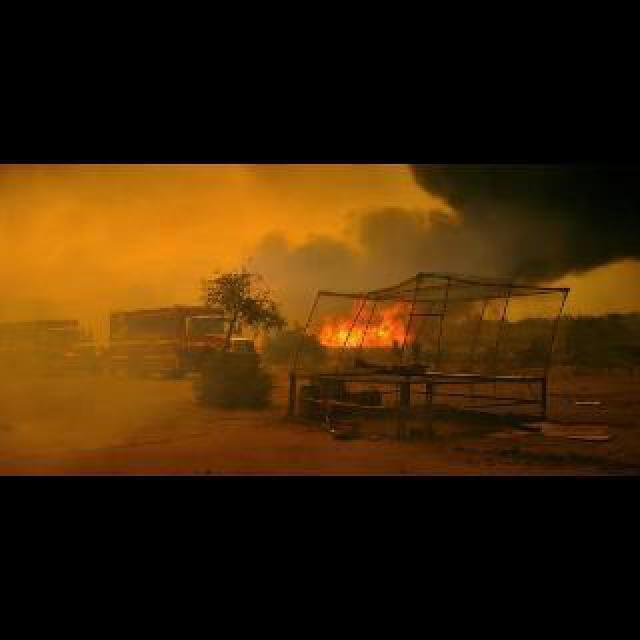Fire: (308, 292, 422, 350)
Smoke: (238, 161, 640, 318)
